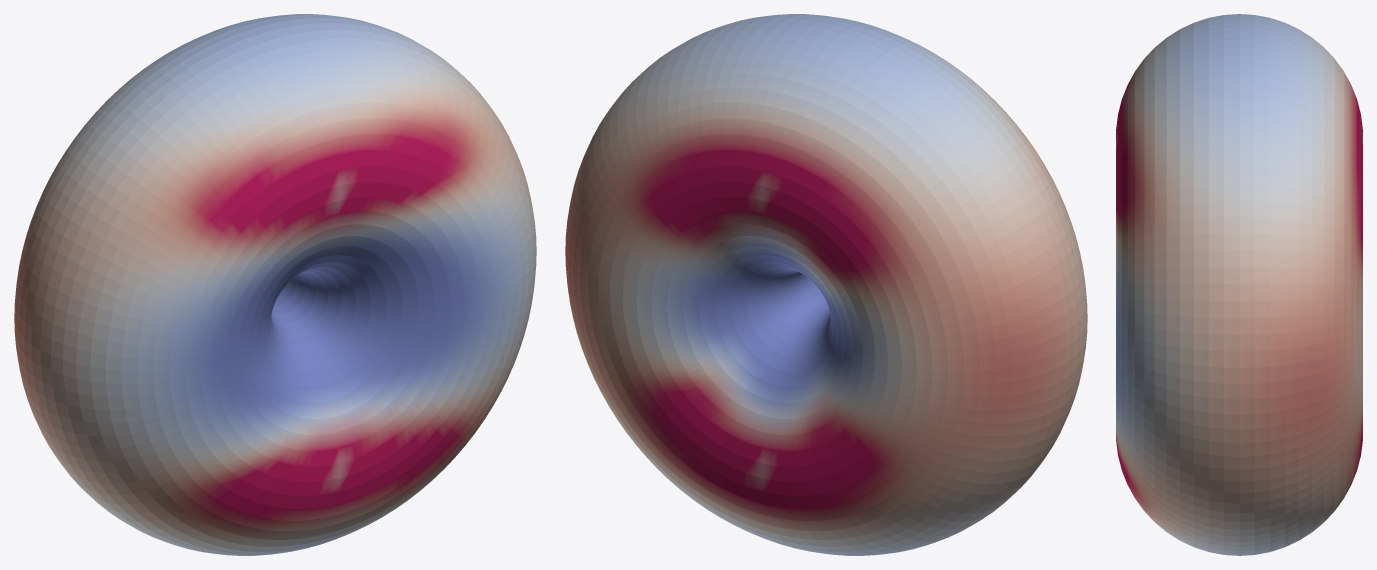
The picture shows the model from 3 angles, left to right: view 1: azimuth 30°, elevation 25°; view 2: azimuth 150°, elevation 25°; view 3: azimuth 270°, elevation 25°; orthographic projection. The views are drawn at different scales.
Visible parts, largest first — view 1: world; view 2: world; view 3: world.
Boxes of the visible parts, x1,y1,x2,y2 form: world: [14, 14, 536, 555]; world: [565, 14, 1087, 555]; world: [1116, 14, 1362, 555].
Size of the model in its own units: 18.4 by 18.4 by 8.38.
